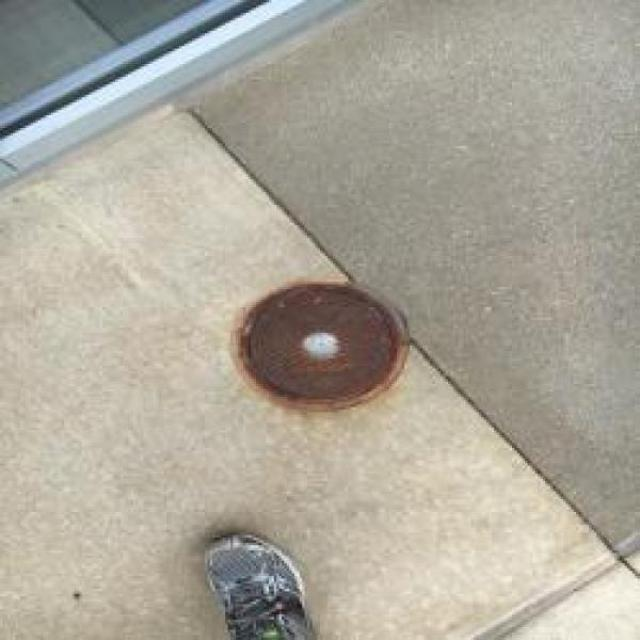dampness: (233, 280, 410, 412)
